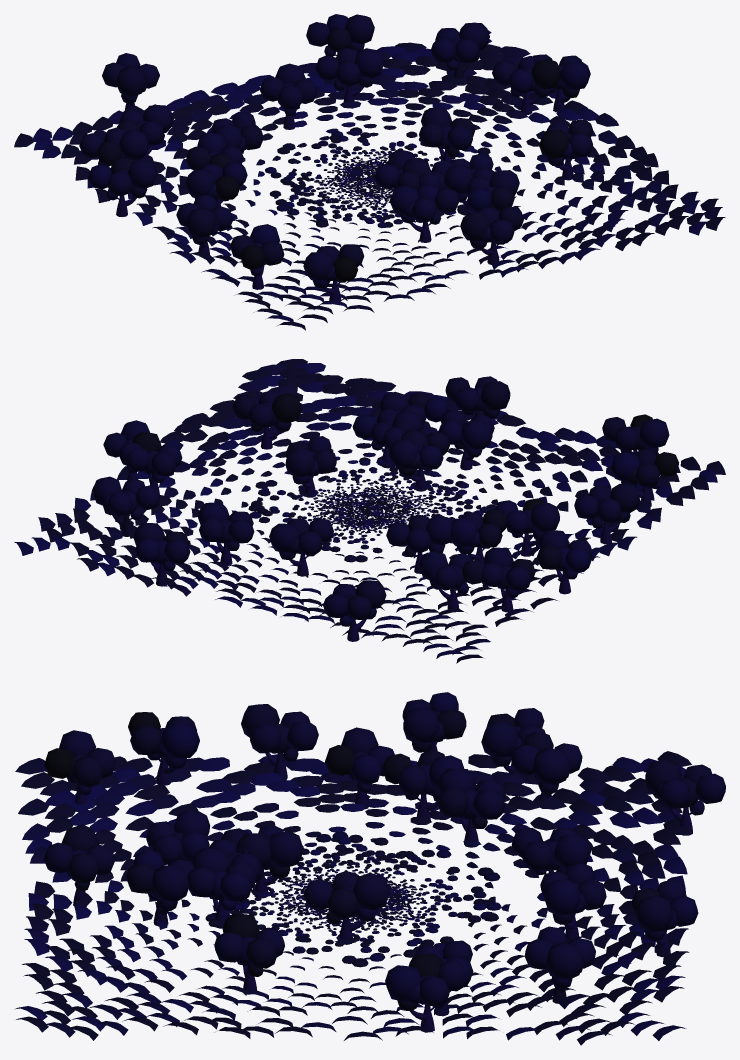
File: Procedural Grass.fbx
3 renders of one model, top to bottom at view 1: azimuth 30°, elevation 25°; view 2: azimuth 150°, elevation 25°; view 3: azimuth 270°, elevation 25°, orthographic. The views are drawn at different scales.
Visible parts, largest first — view 1: Procerual Grass.001; view 2: Procerual Grass.001; view 3: Procerual Grass.001.
Boxes of the visible parts, x1=… form: Procerual Grass.001: x1=14, y1=14, x2=725, y2=330; Procerual Grass.001: x1=14, y1=359, x2=725, y2=663; Procerual Grass.001: x1=14, y1=692, x2=725, y2=1045.
Bounding box in the file's own units: 12210 × 1281 × 12224.
